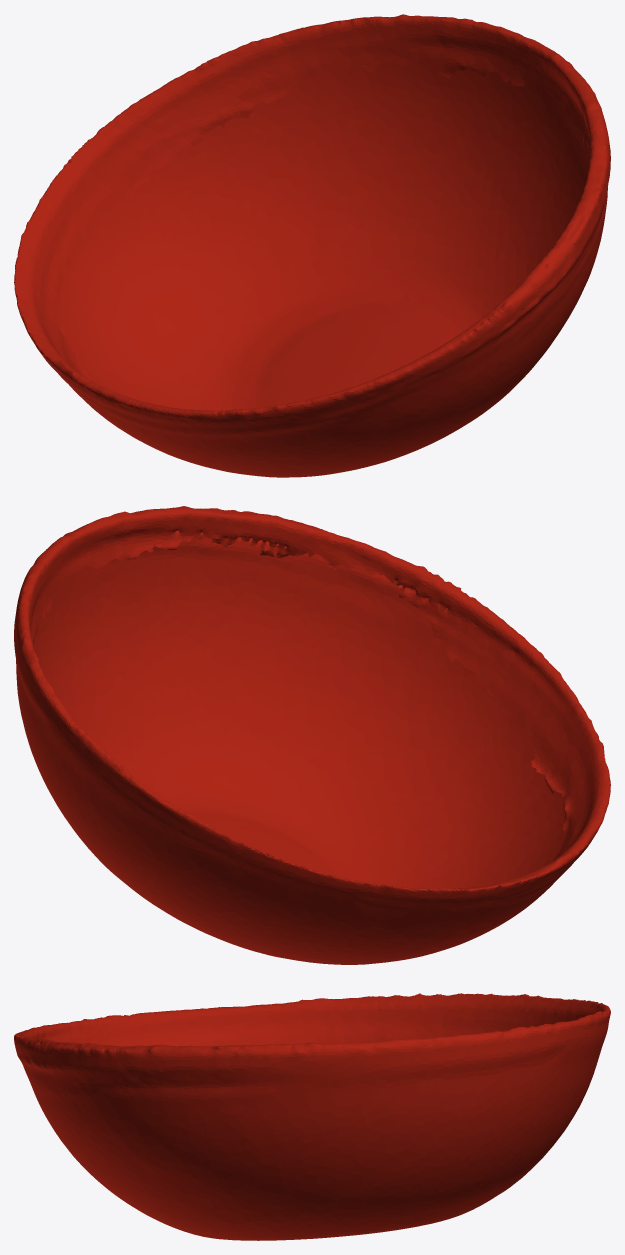
The model's file is Glassbowl_25k2.fbx.
3 renders of one model, top to bottom at view 1: azimuth 30°, elevation 25°; view 2: azimuth 150°, elevation 25°; view 3: azimuth 270°, elevation 25°, orthographic. The views are drawn at different scales.
Parts seen in each view (by area): view 1: Glassbowl_25k2; view 2: Glassbowl_25k2; view 3: Glassbowl_25k2.
Part boxes in pixels (bbox=[...]): Glassbowl_25k2: bbox=[14, 14, 610, 477]; Glassbowl_25k2: bbox=[14, 506, 610, 964]; Glassbowl_25k2: bbox=[14, 993, 610, 1240].
Size of the model in its own units: 6598 by 3981 by 6988.
